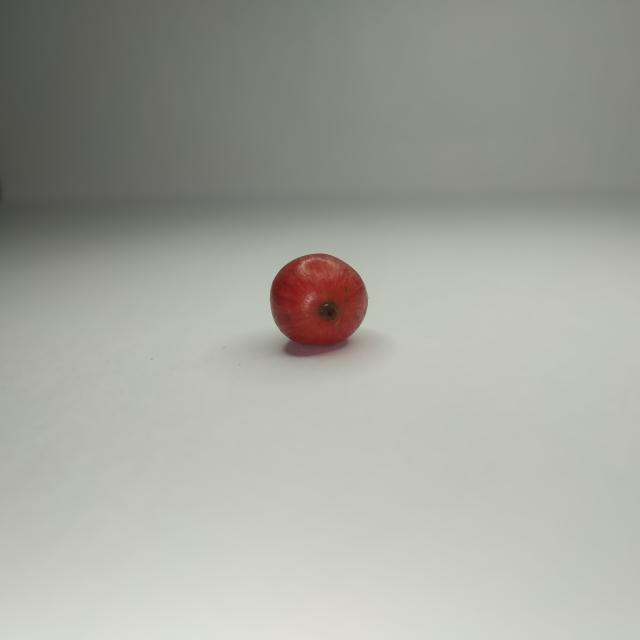Infectado: (270, 253, 367, 348)
